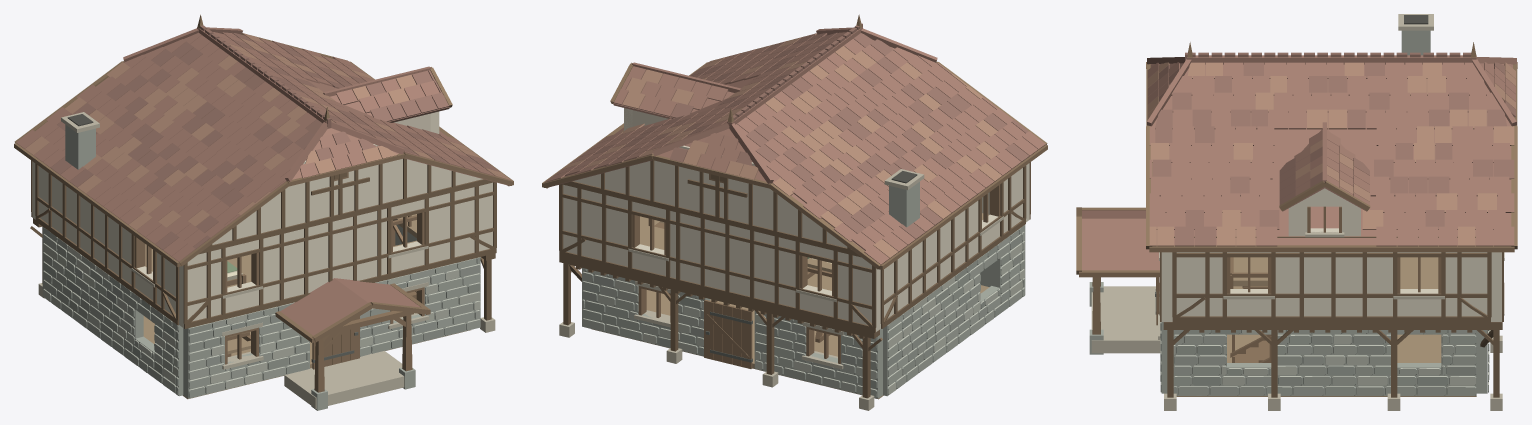
The model's file is holm_guide_house_overhaul_v2.glb.
3 renders of one model, left to right at view 1: azimuth 30°, elevation 25°; view 2: azimuth 150°, elevation 25°; view 3: azimuth 270°, elevation 25°, orthographic. The views are drawn at different scales.
Visible parts, largest first — view 1: Roof, UpperShell, GroundShell, Gable, DoorSouthLeaf, GroundFloor, UpperFloor; view 2: Roof, UpperShell, GroundShell, Gable, DoorNorthLeaf, GroundFloor, UpperFloor; view 3: Roof, GroundShell, UpperShell, UpperFloor, GroundFloor, StairFlight.
Part boxes in pixels (x1,y1,x2,y2): Roof: (14, 14, 513, 342); UpperShell: (31, 133, 496, 328); GroundShell: (30, 218, 495, 410); Gable: (209, 144, 482, 246); DoorSouthLeaf: (311, 316, 359, 369); GroundFloor: (143, 316, 470, 399); UpperFloor: (145, 214, 416, 287); Roof: (542, 14, 1047, 270); UpperShell: (559, 130, 1030, 332); GroundShell: (559, 225, 1025, 410); Gable: (573, 145, 850, 249); DoorNorthLeaf: (704, 299, 752, 368); GroundFloor: (591, 285, 989, 399); UpperFloor: (640, 213, 988, 290); Roof: (1076, 14, 1517, 277); GroundShell: (1089, 277, 1502, 410); UpperShell: (1159, 236, 1504, 322); UpperFloor: (1233, 257, 1438, 288); GroundFloor: (1176, 286, 1476, 396); StairFlight: (1230, 334, 1271, 362).
Size of the model in its own units: 13.82 by 10.13 by 14.02.
